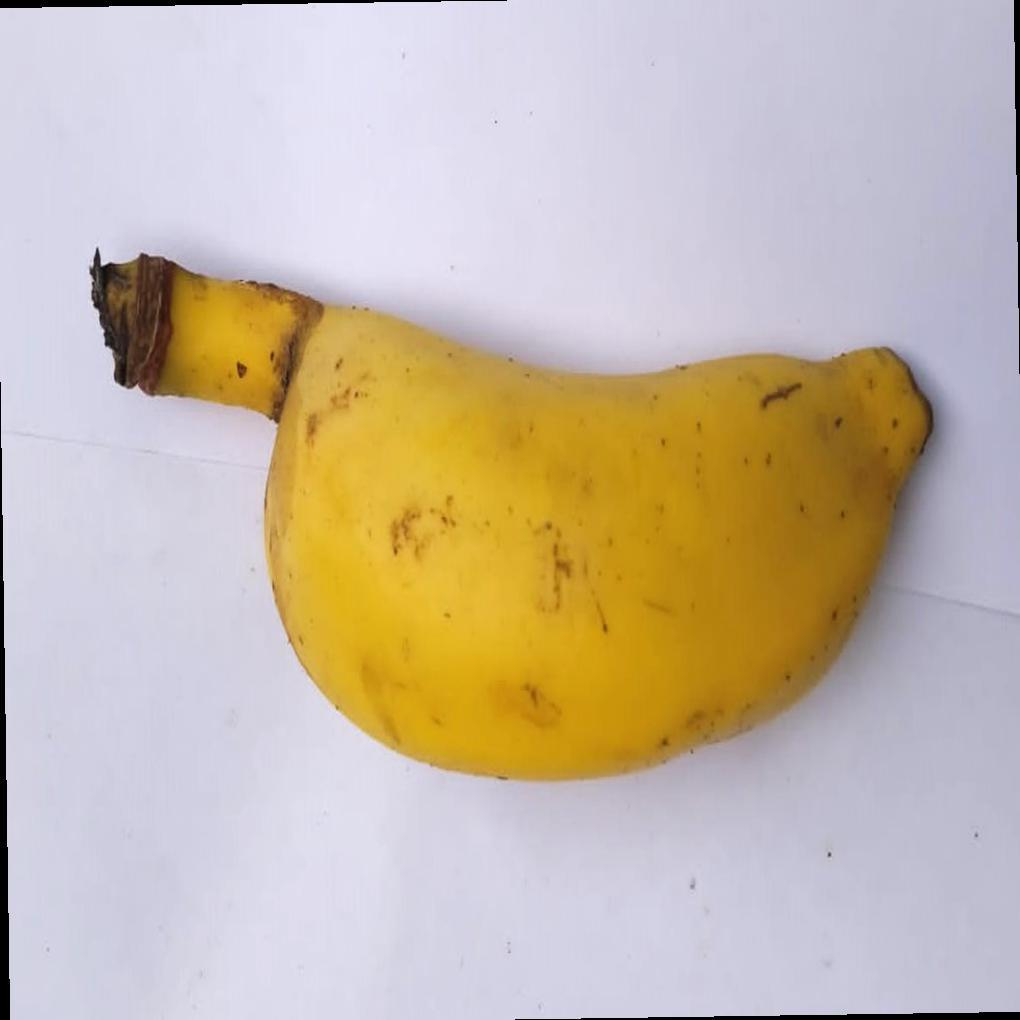Banana Ripe: (138, 166, 955, 851)
